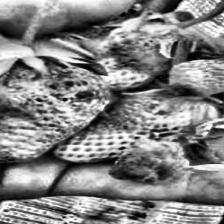Gray Mold: (0, 60, 113, 165), (100, 23, 209, 80), (75, 88, 188, 142), (107, 134, 194, 184), (167, 57, 224, 95)
